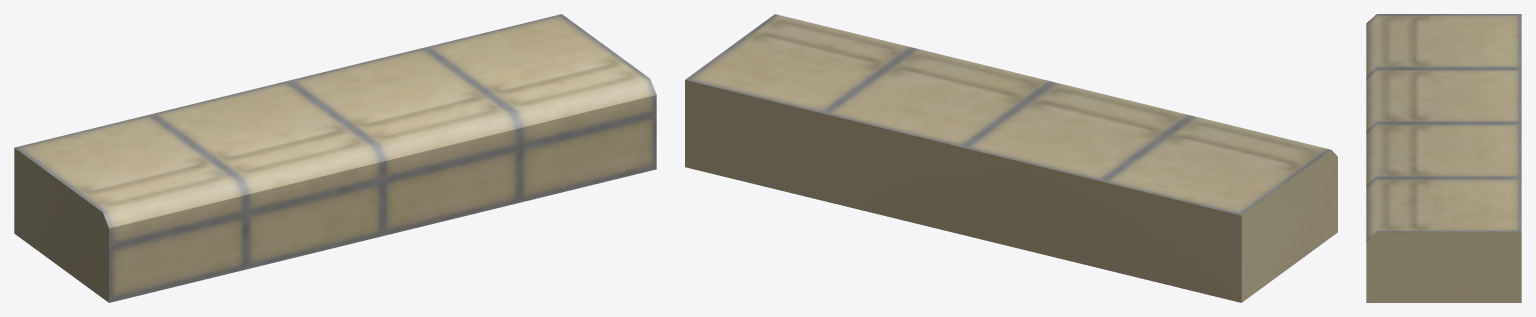
File: set_floor_03b_03_onestep.fbx
3 views of the same model, side by side, from view 1: azimuth 30°, elevation 25°; view 2: azimuth 150°, elevation 25°; view 3: azimuth 270°, elevation 25° (orthographic). The views are drawn at different scales.
Parts seen in each view (by area): view 1: set_floor_03b_03_onestep; view 2: set_floor_03b_03_onestep; view 3: set_floor_03b_03_onestep.
Part boxes in pixels (box(x1,y1,x2,y2)): set_floor_03b_03_onestep: box(14, 14, 656, 302); set_floor_03b_03_onestep: box(685, 14, 1337, 302); set_floor_03b_03_onestep: box(1366, 14, 1521, 302).
Bounding box in the file's own units: 100 × 15 × 30.
